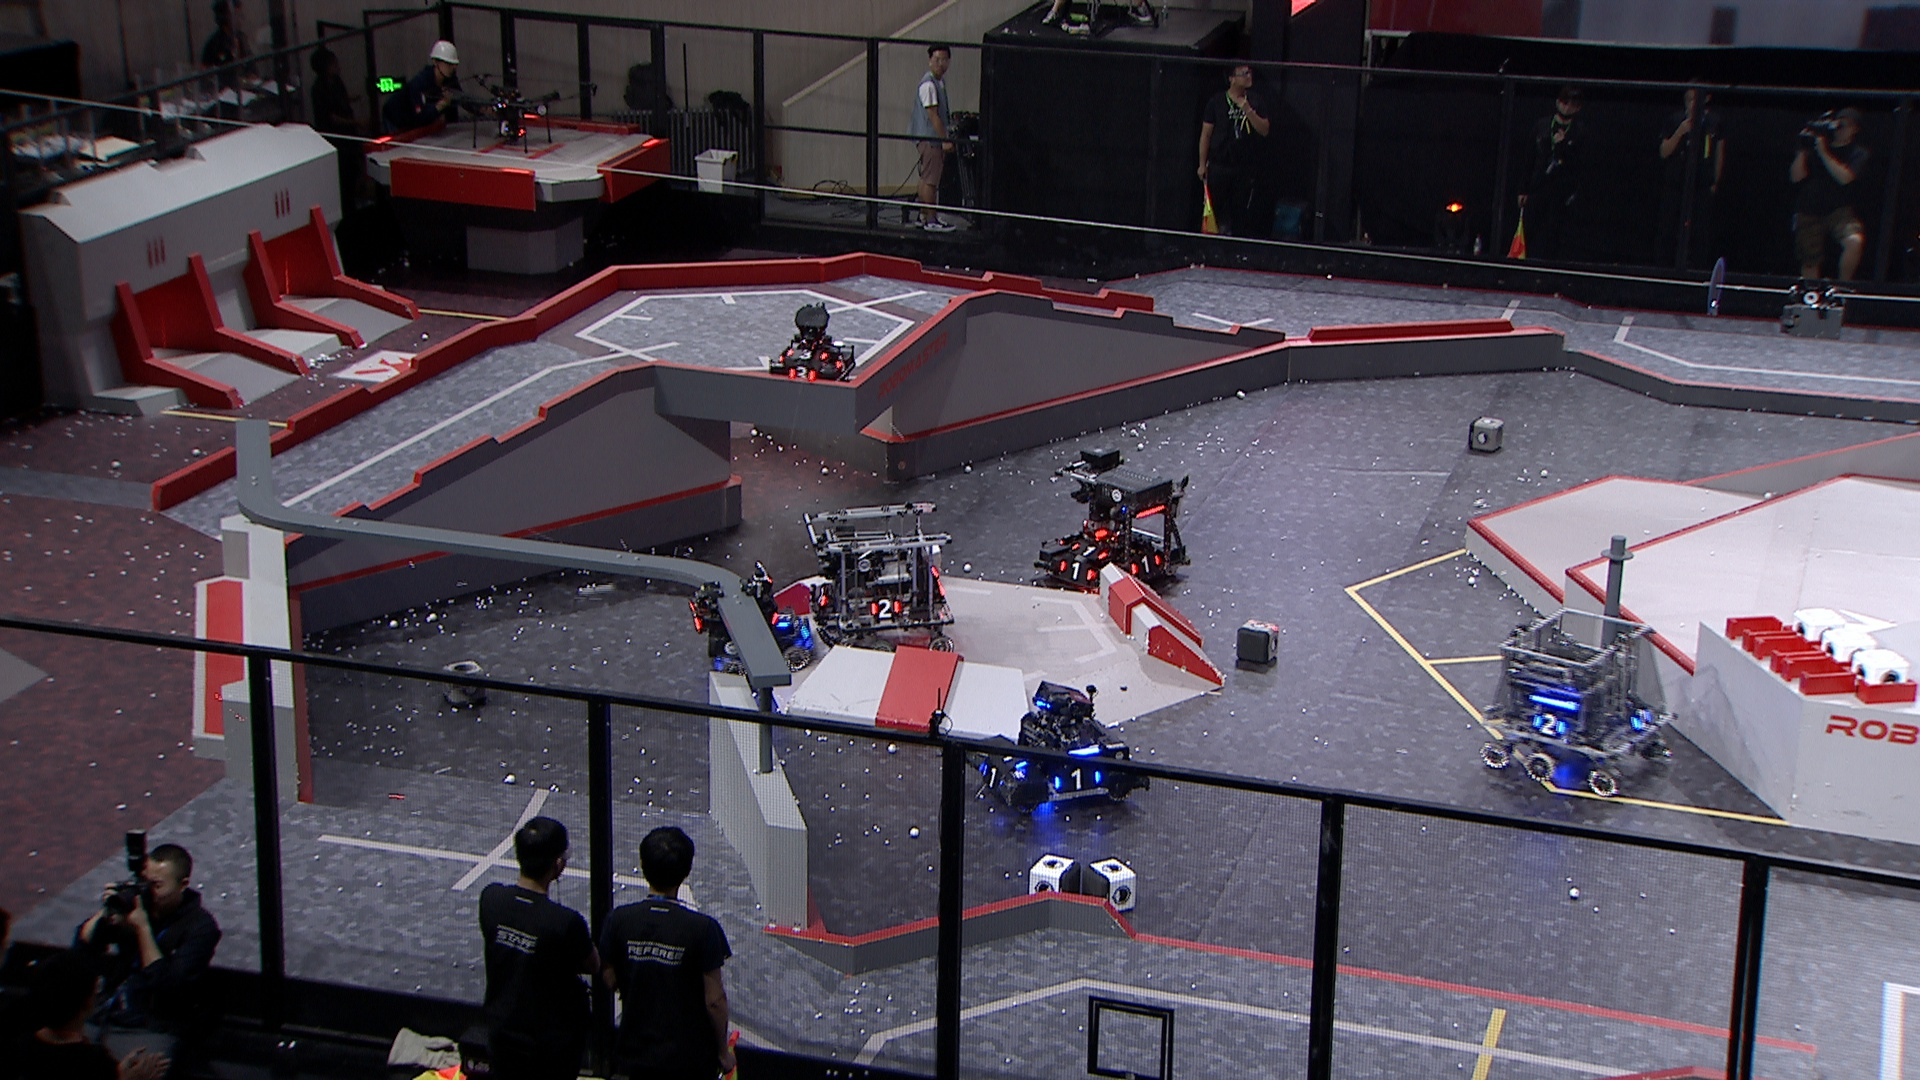armor: (1051, 767, 1102, 794), (1054, 556, 1098, 584), (1527, 711, 1567, 738), (1069, 538, 1110, 564), (1127, 553, 1167, 578), (978, 761, 1007, 793), (783, 344, 829, 361), (870, 597, 903, 621), (1626, 705, 1654, 733), (686, 597, 705, 636), (785, 363, 818, 384), (770, 605, 794, 633), (832, 349, 855, 375), (812, 585, 829, 607)
car: (1476, 607, 1684, 799), (798, 498, 959, 659), (968, 680, 1149, 816), (1038, 450, 1189, 597), (698, 562, 814, 679), (765, 305, 858, 386)
watcher: (683, 559, 779, 661)
